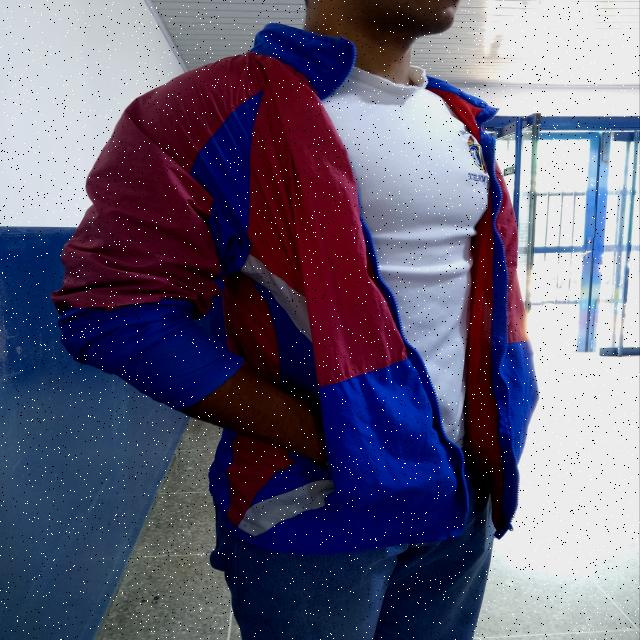chaqueta_unefa: (51, 21, 540, 556)
